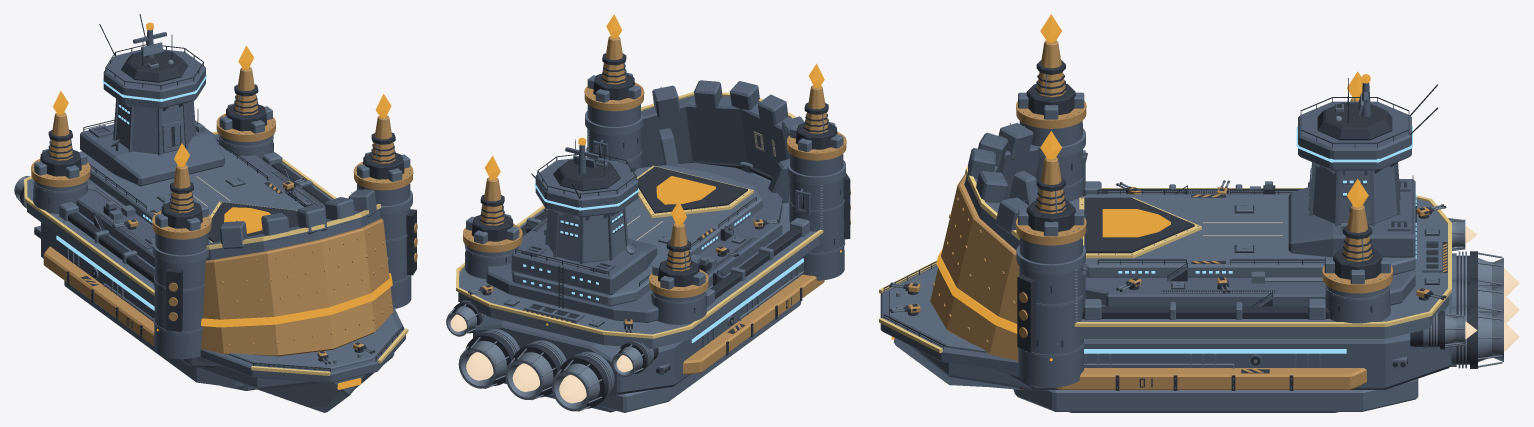
Rendered from bastion_wreck.glb.
3 views of the same model, side by side, from view 1: azimuth 30°, elevation 25°; view 2: azimuth 150°, elevation 25°; view 3: azimuth 270°, elevation 25° (orthographic). The views are drawn at different scales.
Visible parts, largest first — view 1: bastion_wreck_10, bastion_wreck_07, bastion_wreck_08, bastion_wreck_01, bastion_wreck_18, bastion_wreck_00, bastion_wreck_16, bastion_wreck_02, bastion_wreck_21, bastion_wreck_15, bastion_wreck_19, bastion_wreck_14 (+7 smaller); view 2: bastion_wreck_05, bastion_wreck_07, bastion_wreck_17, bastion_wreck_03, bastion_wreck_16, bastion_wreck_00, bastion_wreck_01, bastion_wreck_02, bastion_wreck_14, bastion_wreck_13, bastion_wreck_19, bastion_wreck_20 (+7 smaller); view 3: bastion_wreck_04, bastion_wreck_11, bastion_wreck_14, bastion_wreck_08, bastion_wreck_00, bastion_wreck_06, bastion_wreck_13, bastion_wreck_03, bastion_wreck_07, bastion_wreck_01, bastion_wreck_18, bastion_wreck_17 (+6 smaller).
Part boxes in pixels (x1,y1,x2,y2): bastion_wreck_10: [185, 279, 345, 407]; bastion_wreck_07: [217, 196, 374, 318]; bastion_wreck_08: [323, 232, 408, 408]; bastion_wreck_01: [152, 143, 227, 301]; bastion_wreck_18: [98, 127, 237, 203]; bastion_wreck_00: [349, 94, 417, 247]; bastion_wreck_16: [113, 240, 216, 384]; bastion_wreck_02: [74, 190, 163, 307]; bastion_wreck_21: [114, 42, 200, 134]; bastion_wreck_15: [31, 77, 134, 198]; bastion_wreck_19: [41, 198, 141, 341]; bastion_wreck_14: [211, 84, 294, 169]; bastion_wreck_05: [564, 268, 708, 411]; bastion_wreck_07: [662, 80, 804, 201]; bastion_wreck_17: [504, 231, 641, 352]; bastion_wreck_03: [446, 296, 576, 411]; bastion_wreck_16: [734, 191, 850, 343]; bastion_wreck_00: [584, 14, 677, 170]; bastion_wreck_01: [787, 63, 850, 215]; bastion_wreck_02: [685, 208, 787, 312]; bastion_wreck_14: [448, 194, 523, 314]; bastion_wreck_13: [625, 165, 739, 226]; bastion_wreck_19: [675, 287, 772, 393]; bastion_wreck_20: [531, 137, 626, 234]; bastion_wreck_04: [1152, 238, 1328, 412]; bastion_wreck_11: [1014, 268, 1222, 412]; bastion_wreck_14: [1291, 232, 1462, 411]; bastion_wreck_08: [879, 244, 1024, 390]; bastion_wreck_00: [992, 131, 1100, 318]; bastion_wreck_06: [1307, 94, 1412, 250]; bastion_wreck_13: [1082, 197, 1229, 288]; bastion_wreck_03: [1377, 265, 1519, 408]; bastion_wreck_07: [937, 123, 1096, 258]; bastion_wreck_01: [1012, 14, 1087, 183]; bastion_wreck_18: [1208, 179, 1330, 252]; bastion_wreck_17: [1367, 166, 1451, 289].
Bounding box in the file's own units: 6.28 × 6.42 × 11.6.
17 materials, 1 textured.
